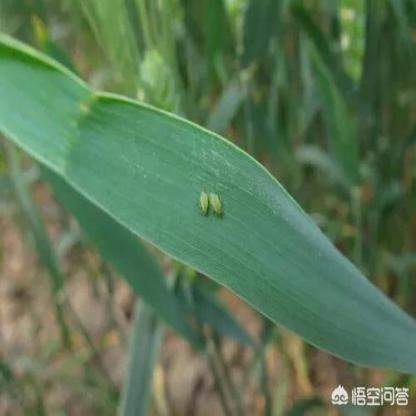aphid: (209, 190, 226, 218), (197, 188, 211, 219)
